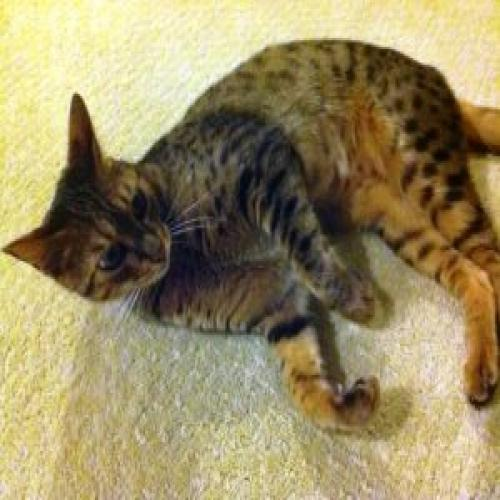cat-face: (2, 88, 190, 326)
